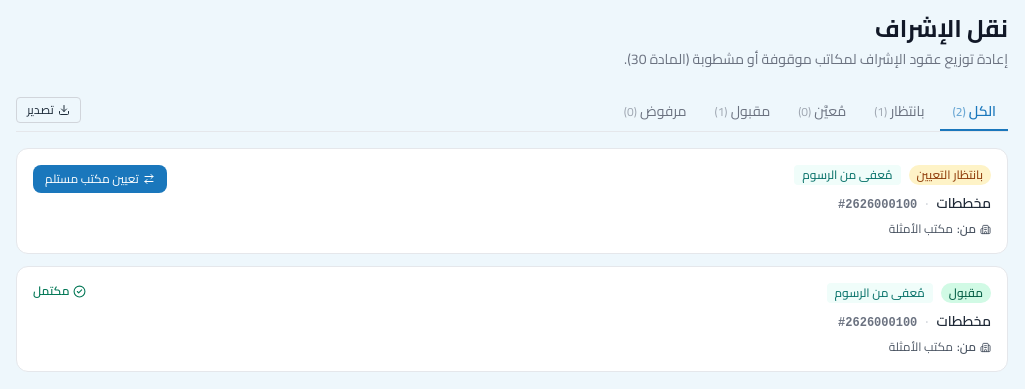
Test case: SupervisionTransfersAdmin (JORD-83 UI) › filter tabs narrow the list
The width and height of the screenshot is (1025, 389).
Check: the element with test id "filter-tabs" is shown, box [612,93,1008,131]
Click the button with test id "filter-accepted".
click(742, 112)  # box [702,93,782,131]
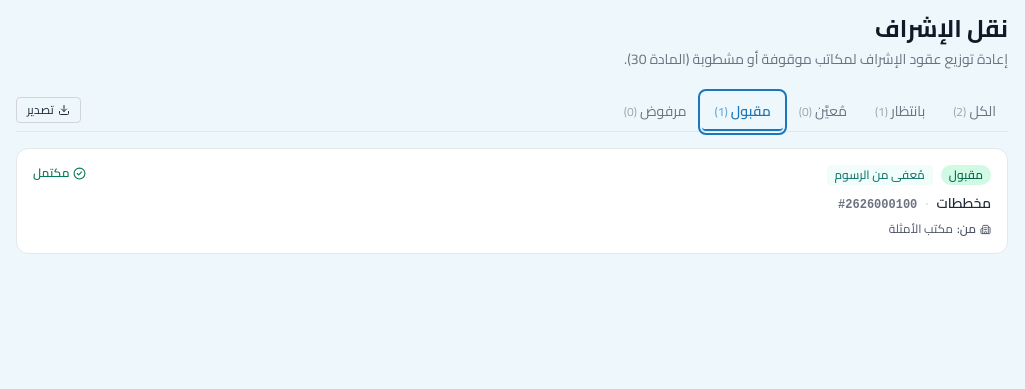
Check: the element with test id "transfer-row-2" is shown, box [16,148,1008,254]
Check: the element with test id "transfer-row-1" is gone
